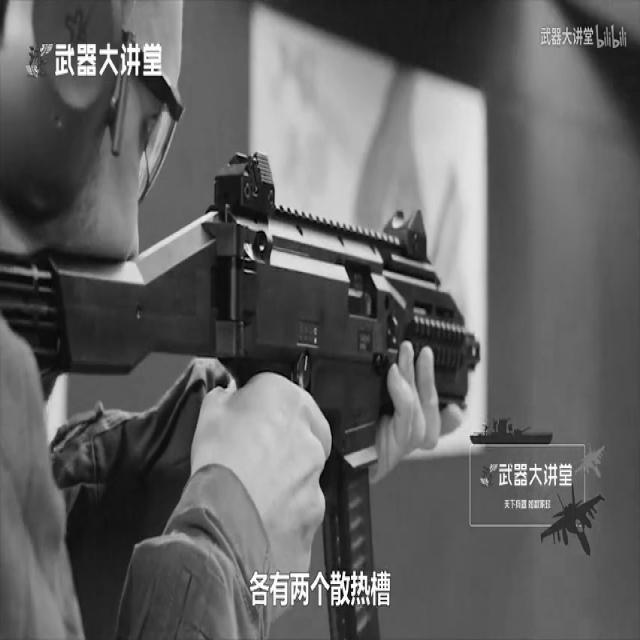Sub-machine-gun: (0, 148, 485, 627)
